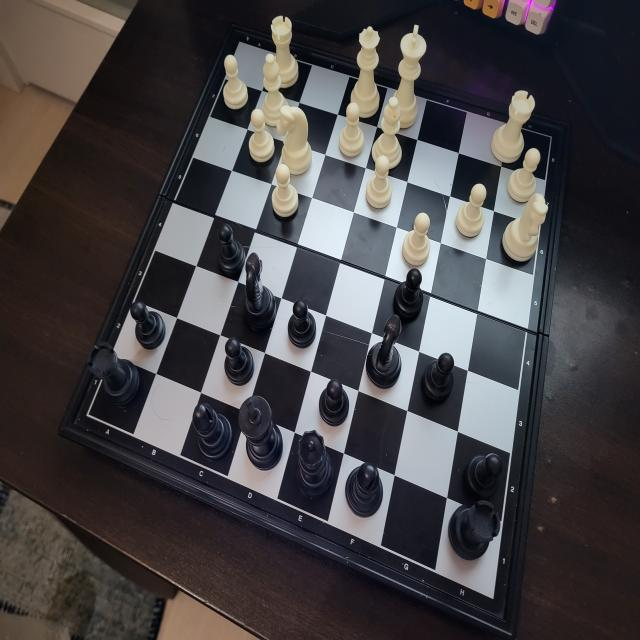black-bishop: (191, 400, 233, 466), (345, 460, 384, 520)
black-king: (238, 394, 285, 474)
black-knight: (365, 313, 403, 390), (244, 251, 278, 334)
black-pawn: (464, 448, 504, 502), (421, 348, 456, 406), (129, 300, 167, 352), (393, 267, 424, 324), (222, 335, 255, 388), (286, 298, 318, 352), (318, 377, 349, 428), (216, 222, 245, 274)
black-queen: (291, 428, 336, 502)
black-rook: (85, 341, 141, 411), (447, 498, 502, 562)
chess-board: (80, 22, 563, 623)
white-bishop: (372, 96, 402, 170), (260, 52, 288, 127)
white-king: (390, 24, 428, 130)
white-knight: (497, 192, 549, 267), (275, 105, 313, 177)
white-pawn: (454, 181, 489, 242), (506, 144, 541, 204), (401, 210, 433, 270), (364, 154, 394, 214), (271, 162, 300, 222), (248, 107, 276, 169), (337, 102, 366, 160), (222, 54, 249, 112)
white-queen: (350, 25, 380, 119)
white-rook: (487, 89, 536, 164), (270, 13, 300, 88)
